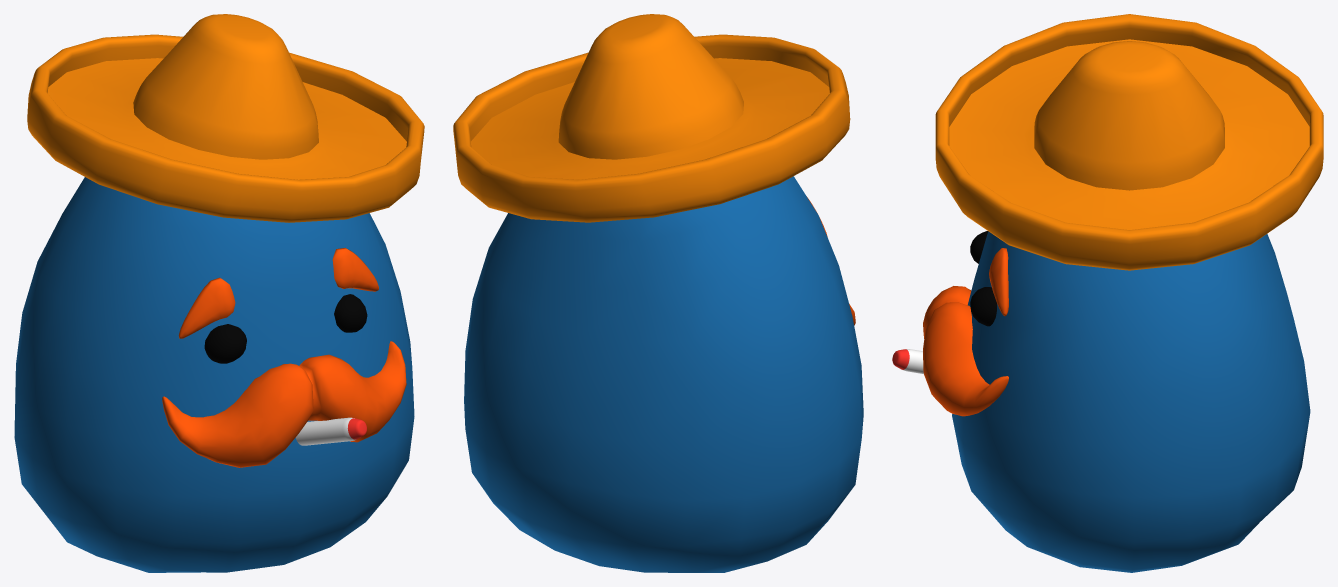
The model's file is Adam.FBX.
3 views of the same model, side by side, from view 1: azimuth 30°, elevation 25°; view 2: azimuth 150°, elevation 25°; view 3: azimuth 270°, elevation 25° (orthographic). The views are drawn at different scales.
Parts seen in each view (by area): view 1: Main, Hat; view 2: Main, Hat; view 3: Main, Hat.
Part boxes in pixels (left/top/right/bottom): Main: left=14, top=177, right=414, bottom=572; Hat: left=27, top=14, right=424, bottom=222; Main: left=464, top=176, right=863, bottom=572; Hat: left=453, top=14, right=850, bottom=222; Main: left=892, top=231, right=1310, bottom=572; Hat: left=935, top=14, right=1323, bottom=270.
Bounding box in the file's own units: 1183 × 1582 × 1250.
